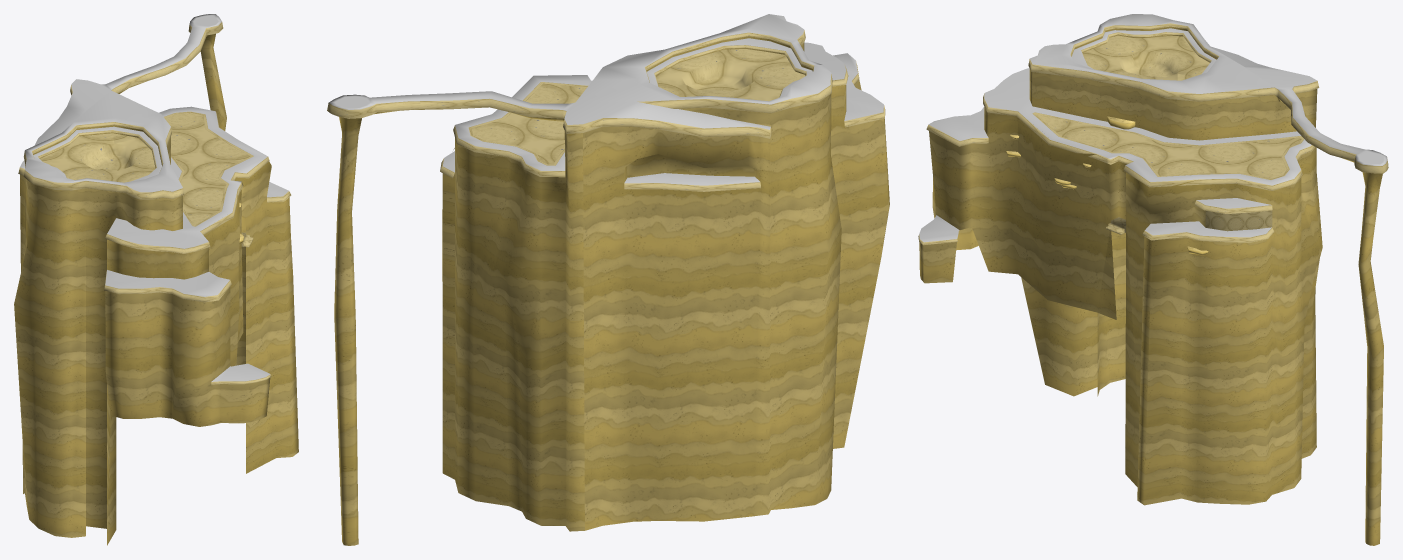
File: up there mesh.fbx
The picture shows the model from 3 angles, left to right: view 1: azimuth 30°, elevation 25°; view 2: azimuth 150°, elevation 25°; view 3: azimuth 270°, elevation 25°; orthographic projection. The views are drawn at different scales.
Visible parts, largest first — view 1: polySurface94; view 2: polySurface94; view 3: polySurface94.
Part boxes in pixels (x1=…): polySurface94: x1=14, y1=14, x2=298, y2=545; polySurface94: x1=327, y1=14, x2=889, y2=545; polySurface94: x1=918, y1=14, x2=1388, y2=545.
Bounding box in the file's own units: 0.9406 × 1.07 × 1.19.
